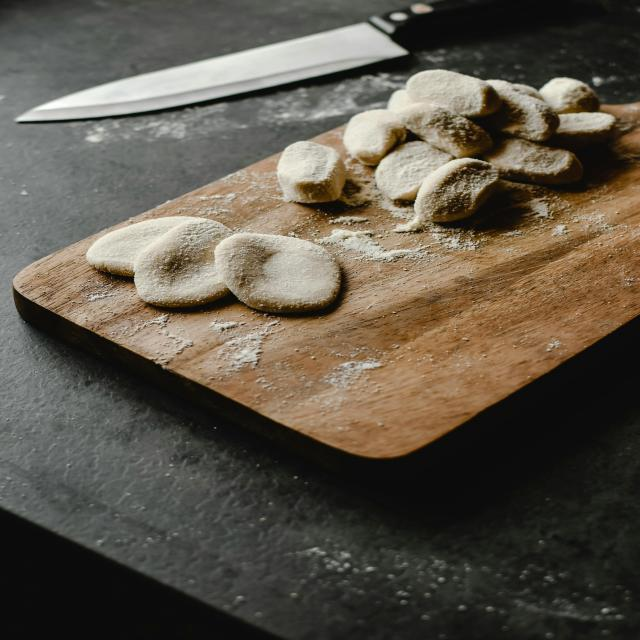knife: (13, 0, 479, 121)
